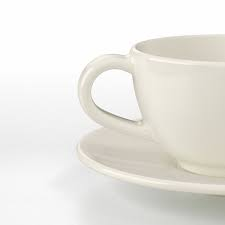cup: (65, 26, 225, 180)
